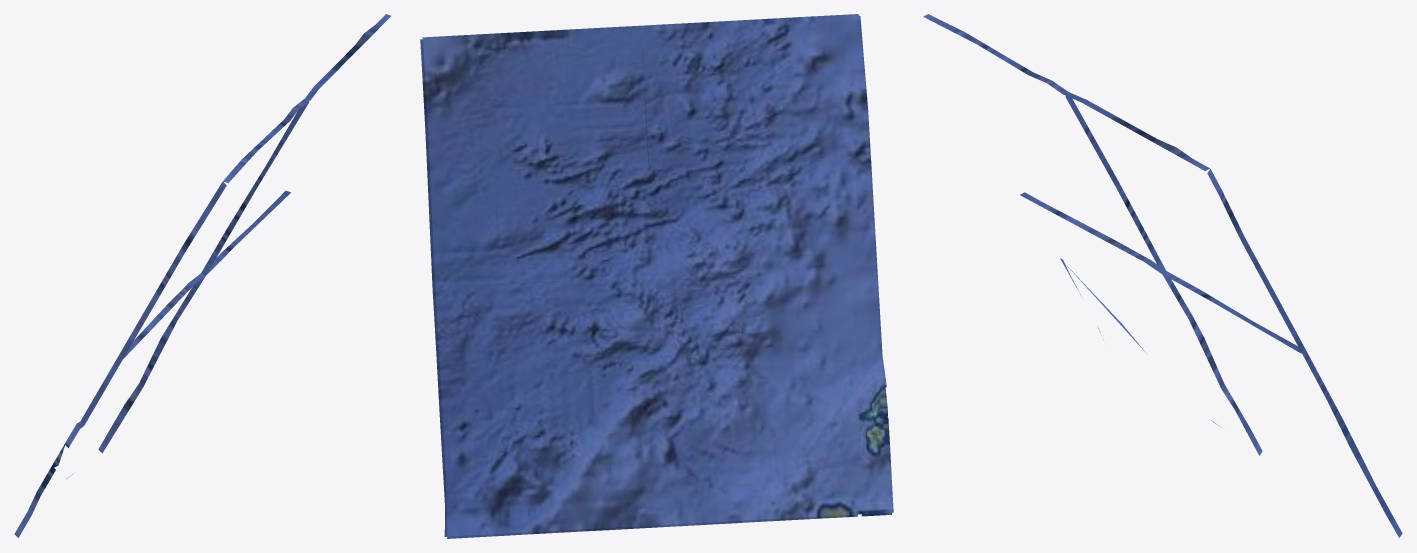
3 renders of one model, left to right at view 1: azimuth 30°, elevation 25°; view 2: azimuth 150°, elevation 25°; view 3: azimuth 270°, elevation 25°, orthographic. The views are drawn at different scales.
Bounding box in the file's own units: 156237 × 141332 × 143160.
1 material, 1 textured.
